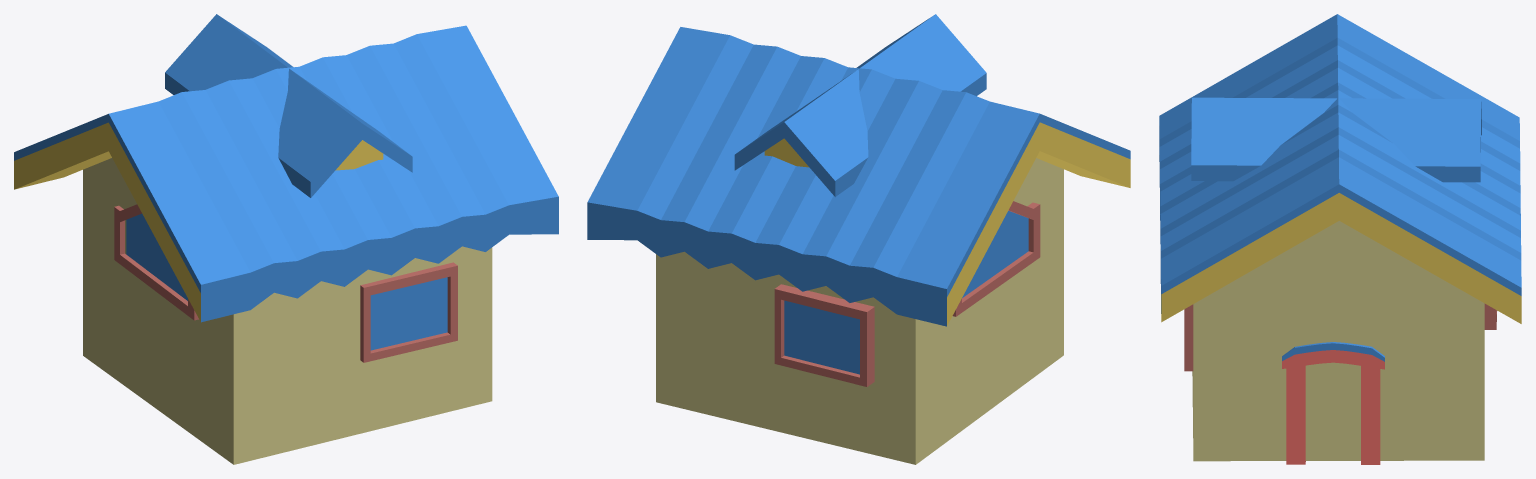
Rendered from house2.fbx.
The picture shows the model from 3 angles, left to right: view 1: azimuth 30°, elevation 25°; view 2: azimuth 150°, elevation 25°; view 3: azimuth 270°, elevation 25°; orthographic projection. The views are drawn at different scales.
Visible parts, largest first — view 1: Cube.015, Cube.016, Cube.021, Cube.020; view 2: Cube.015, Cube.016, Cube.022, Cube.020; view 3: Cube.015, Cube.016, Cube.017, Cube.019, Cube.018, Cube.021.
Boxes of the visible parts, bbox=[...] form: Cube.015: bbox=[14, 25, 558, 464]; Cube.016: bbox=[165, 14, 412, 197]; Cube.021: bbox=[360, 262, 457, 362]; Cube.020: bbox=[114, 204, 198, 320]; Cube.015: bbox=[587, 27, 1130, 464]; Cube.016: bbox=[734, 14, 986, 196]; Cube.022: bbox=[774, 284, 874, 386]; Cube.020: bbox=[952, 201, 1040, 316]; Cube.015: bbox=[1159, 14, 1521, 461]; Cube.016: bbox=[1191, 97, 1481, 182]; Cube.017: bbox=[1282, 342, 1384, 369]; Cube.019: bbox=[1286, 365, 1305, 464]; Cube.018: bbox=[1361, 366, 1380, 464]; Cube.021: bbox=[1184, 304, 1193, 371].
Bounding box in the file's own units: 6698 × 5604 × 5997.
